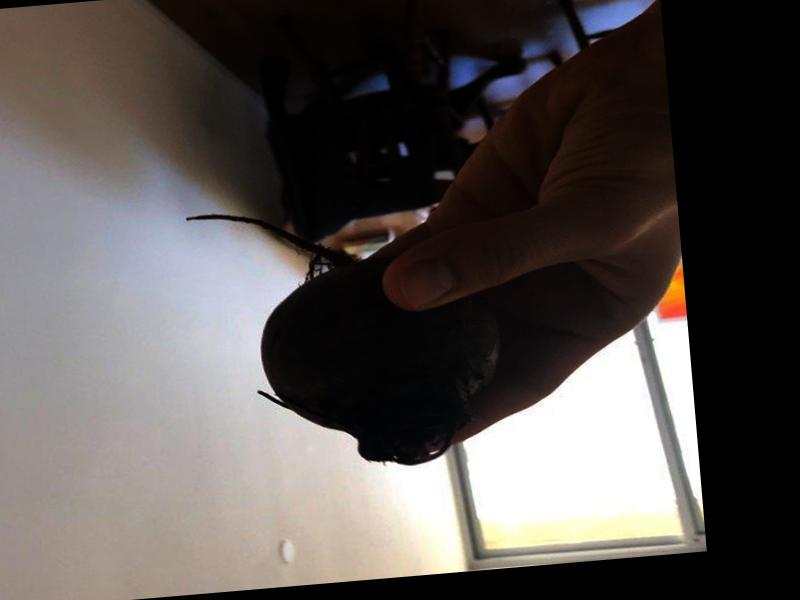Beet: (183, 192, 508, 482)
